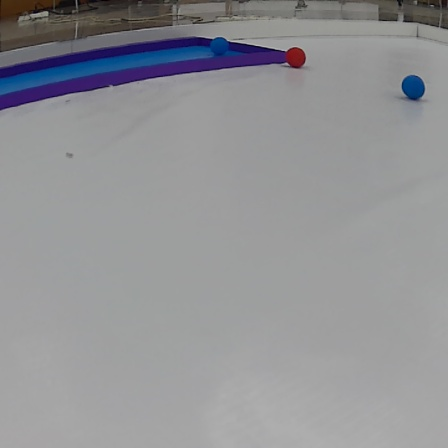blue: (400, 70, 428, 99), (208, 32, 231, 58)
blue_aim: (0, 35, 300, 110)
red: (286, 46, 307, 68)
